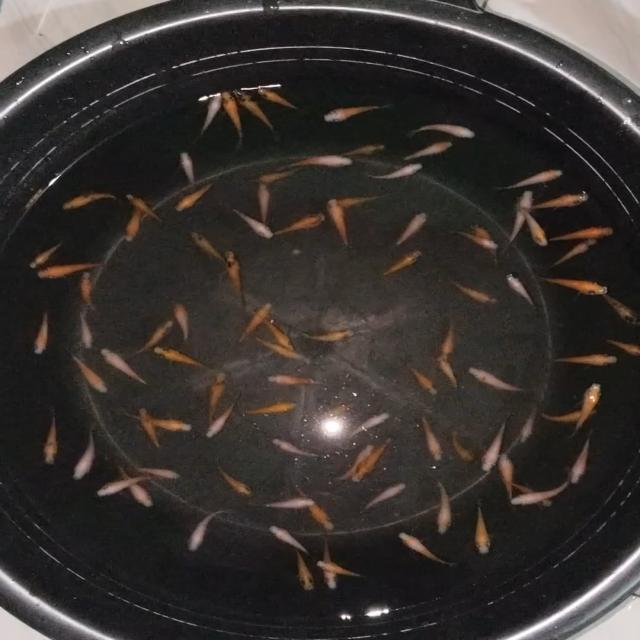nila: (398, 530, 458, 572), (464, 364, 537, 396), (231, 86, 285, 129), (248, 305, 296, 353), (65, 350, 112, 398), (186, 507, 234, 554), (480, 414, 516, 476), (296, 482, 336, 536), (128, 314, 176, 358), (508, 479, 578, 509), (332, 442, 379, 486), (230, 299, 274, 345), (570, 380, 604, 439), (31, 256, 108, 282), (99, 347, 151, 385), (122, 411, 196, 437), (119, 462, 159, 510), (428, 477, 458, 539), (313, 536, 345, 594), (156, 344, 216, 374), (68, 426, 99, 484), (204, 395, 243, 441), (200, 366, 232, 422), (548, 237, 602, 270), (506, 187, 534, 250), (544, 272, 610, 298), (222, 248, 248, 314), (353, 442, 391, 487), (497, 168, 567, 192), (336, 410, 392, 440), (269, 432, 326, 461), (318, 102, 392, 124), (228, 205, 274, 240), (379, 248, 429, 280), (216, 460, 256, 500), (173, 180, 216, 217), (255, 335, 308, 365), (92, 472, 148, 500), (538, 403, 606, 426), (194, 90, 224, 142), (390, 210, 430, 249), (502, 269, 539, 311), (508, 480, 556, 512), (186, 228, 226, 266), (220, 90, 248, 144), (516, 204, 552, 246), (450, 276, 500, 306), (358, 482, 408, 512), (265, 212, 327, 236), (405, 120, 483, 139), (569, 431, 595, 488), (274, 154, 356, 172), (420, 413, 450, 462), (529, 188, 590, 212), (496, 452, 522, 508), (126, 191, 167, 226), (58, 190, 122, 212), (603, 292, 640, 330), (28, 237, 70, 270), (250, 180, 278, 229), (397, 140, 454, 164), (471, 220, 502, 264), (256, 88, 308, 114), (272, 528, 315, 559), (448, 425, 482, 464), (474, 498, 496, 558), (361, 162, 426, 182), (27, 307, 52, 358), (329, 198, 354, 248), (292, 548, 320, 592), (542, 226, 624, 241), (408, 364, 442, 400), (170, 300, 196, 347), (240, 400, 301, 420), (41, 408, 62, 466), (312, 559, 368, 580), (545, 352, 623, 367), (262, 371, 326, 389), (451, 227, 500, 250), (137, 406, 162, 450), (296, 328, 360, 345), (134, 461, 180, 484), (439, 316, 462, 361), (516, 406, 541, 446), (254, 496, 316, 512), (77, 268, 99, 313), (122, 198, 144, 242), (340, 141, 390, 160), (438, 356, 462, 394), (75, 310, 95, 355), (176, 149, 200, 185), (256, 166, 302, 183), (330, 194, 385, 208), (604, 335, 640, 356)
